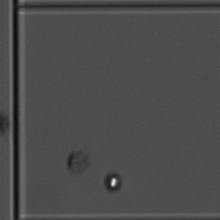Dead Cell: (66, 149, 91, 173)
Living Cell: (100, 168, 129, 196)
